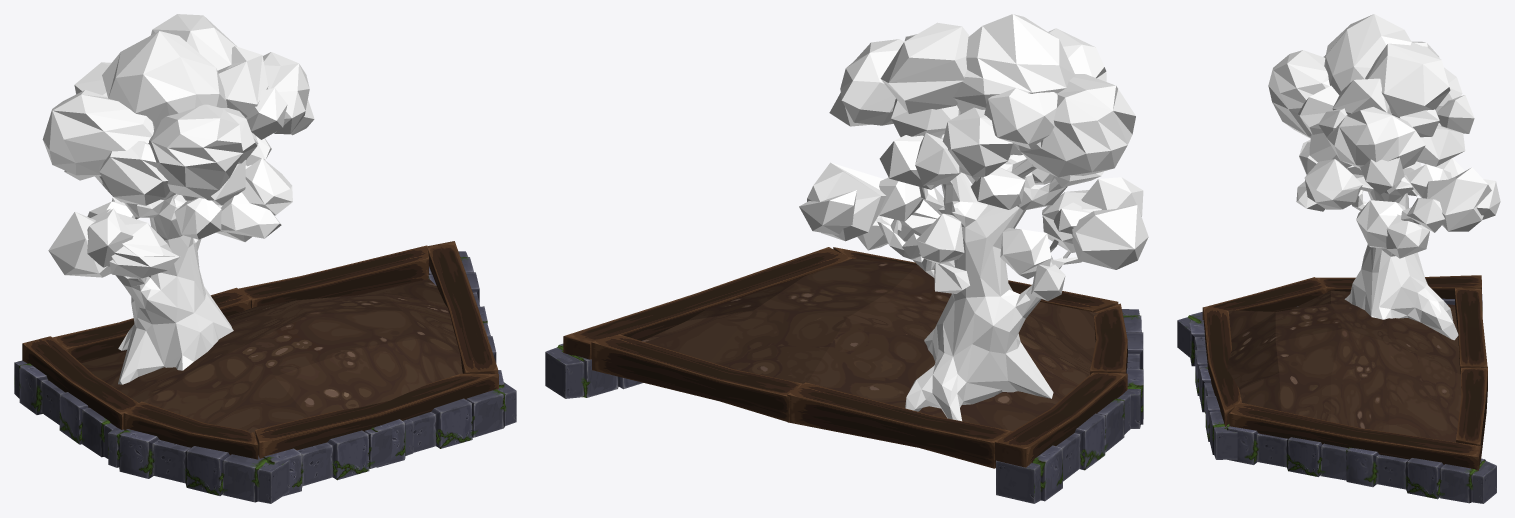
File: GardenSec4.fbx
3 renders of one model, left to right at view 1: azimuth 30°, elevation 25°; view 2: azimuth 150°, elevation 25°; view 3: azimuth 270°, elevation 25°, orthographic. The views are drawn at different scales.
Parts seen in each view (by area): view 1: MOD_Column_01_large_2.002; view 2: MOD_Column_01_large_2.002; view 3: MOD_Column_01_large_2.002.
Part boxes in pixels (left/top/right/bottom): MOD_Column_01_large_2.002: left=14, top=14, right=516, bottom=503; MOD_Column_01_large_2.002: left=545, top=14, right=1148, bottom=503; MOD_Column_01_large_2.002: left=1177, top=14, right=1500, bottom=503.
Bounding box in the file's own units: 11.14 × 8.65 × 7.52.
Materials: 4 (3 with a texture image).
